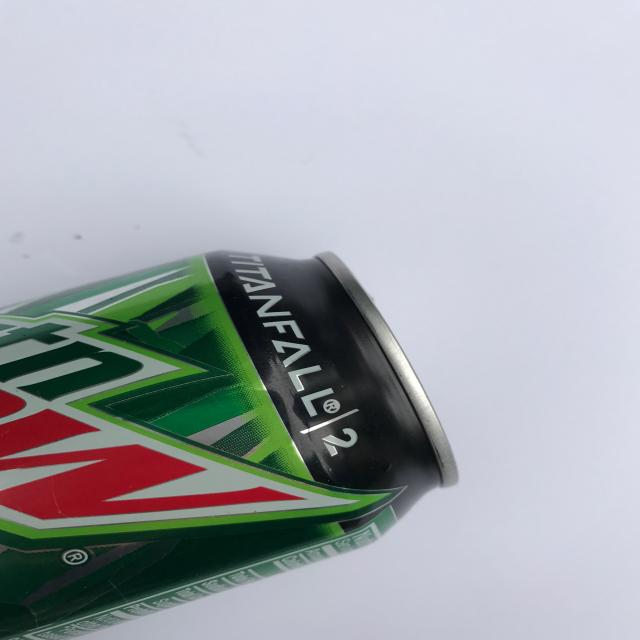metal: (0, 248, 460, 640)
